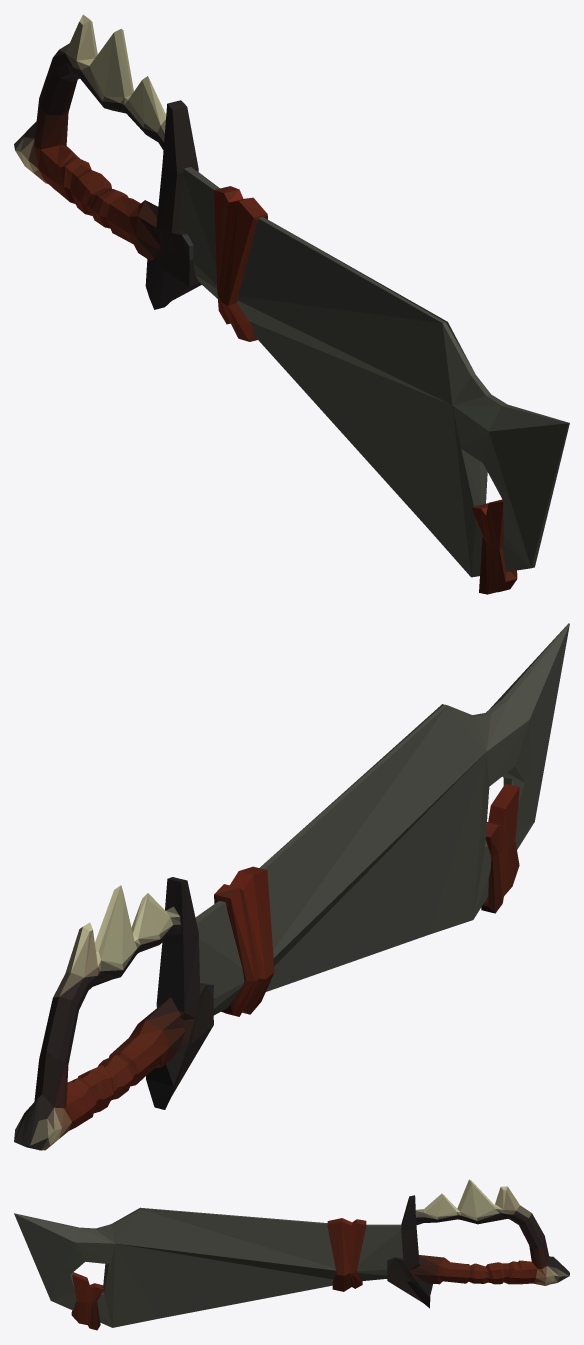
The model's file is weapon_sword_red.fbx.
3 views of the same model, one above another, from view 1: azimuth 30°, elevation 25°; view 2: azimuth 150°, elevation 25°; view 3: azimuth 270°, elevation 25° (orthographic). The views are drawn at different scales.
Parts seen in each view (by area): view 1: weapon_sword_red; view 2: weapon_sword_red; view 3: weapon_sword_red.
Boxes of the visible parts, <box> form: weapon_sword_red: <box>14,14,569,594</box>; weapon_sword_red: <box>14,623,569,1150</box>; weapon_sword_red: <box>14,1179,569,1330</box>.
Bounding box in the file's own units: 0.1301 × 0.7834 × 2.64.
